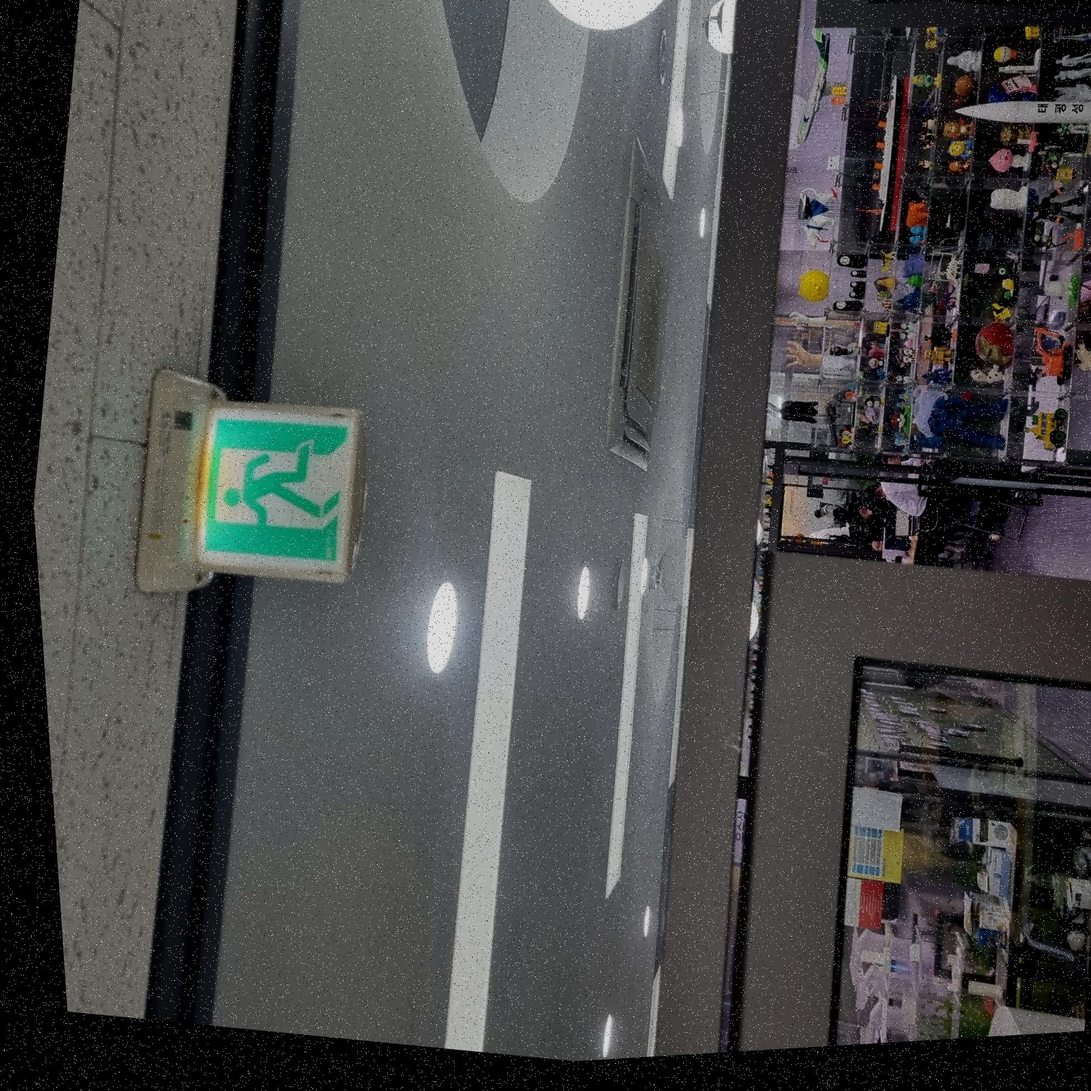emergency_exit: (135, 366, 367, 595), (194, 400, 364, 584)
